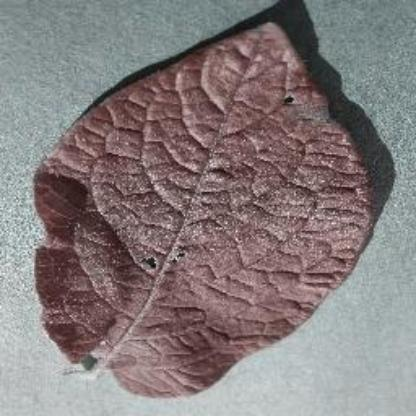Healthy-plant: (17, 23, 386, 403)
